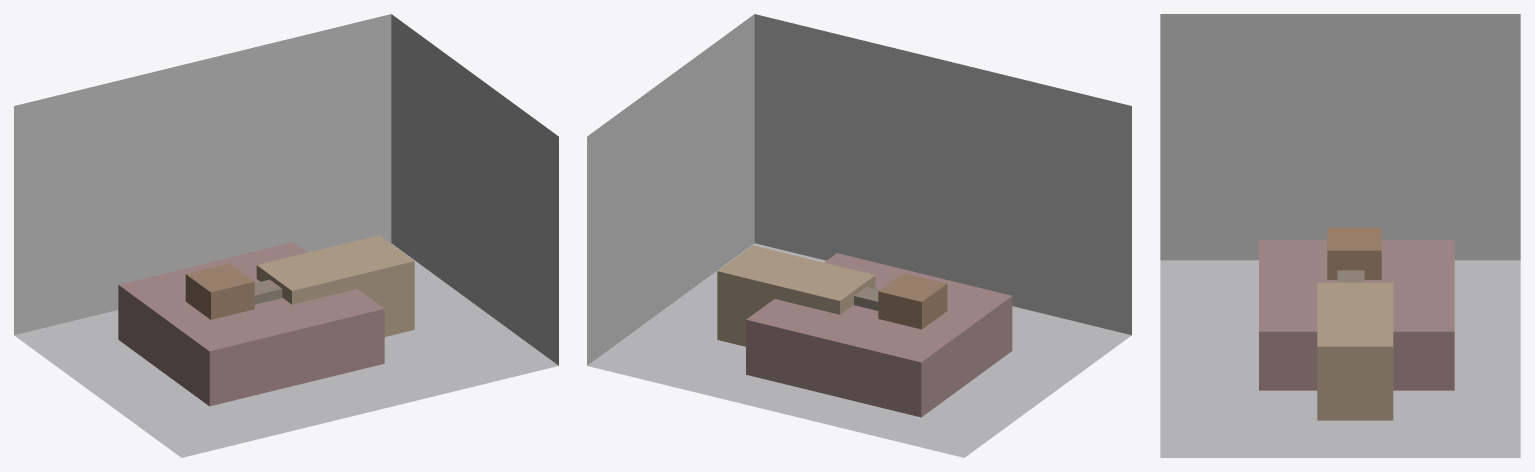
The model's file is optimised_layout.glb.
The picture shows the model from 3 angles, left to right: view 1: azimuth 30°, elevation 25°; view 2: azimuth 150°, elevation 25°; view 3: azimuth 270°, elevation 25°; orthographic projection. The views are drawn at different scales.
Visible parts, largest first — view 1: room, bed, desk, chair, suitcase; view 2: room, bed, desk, chair; view 3: room, bed, desk, chair.
Boxes of the visible parts, <box> form: room: <box>14,14,558,457</box>; bed: <box>118,242,384,406</box>; desk: <box>256,235,414,336</box>; chair: <box>185,263,254,319</box>; suitcase: <box>254,279,282,304</box>; room: <box>587,14,1131,457</box>; bed: <box>746,253,1012,417</box>; desk: <box>717,245,875,346</box>; chair: <box>878,273,947,329</box>; room: <box>1160,14,1520,457</box>; bed: <box>1259,239,1454,390</box>; desk: <box>1317,282,1393,420</box>; chair: <box>1327,227,1381,279</box>.
Bounding box in the file's own units: 4.31 × 2.5 × 3.31.
